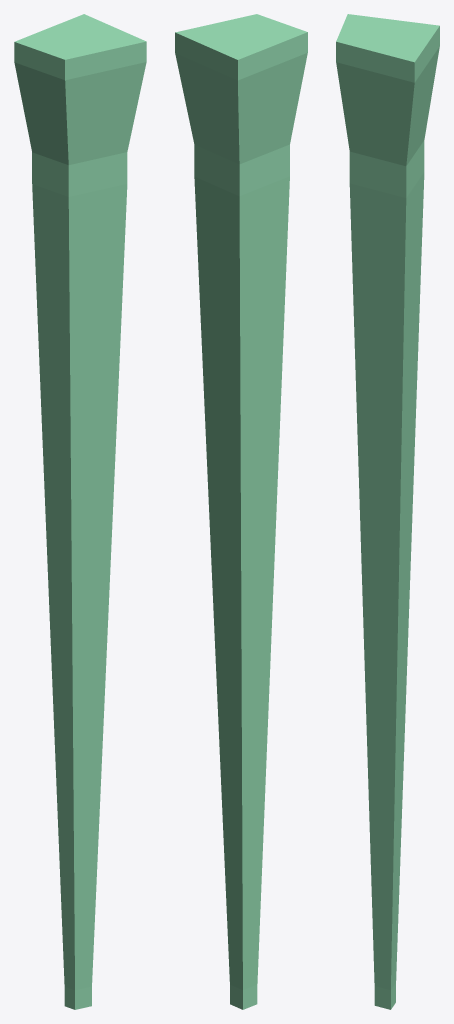
File: Seoul.obj
3 views of the same model, side by side, from view 1: azimuth 30°, elevation 25°; view 2: azimuth 210°, elevation 25°; view 3: azimuth 330°, elevation 25° (orthographic).
Parts seen in each view (by area): view 1: Seoul; view 2: Seoul; view 3: Seoul.
Boxes of the visible parts, bbox=[...] form: Seoul: bbox=[14, 14, 146, 1009]; Seoul: bbox=[175, 14, 307, 1009]; Seoul: bbox=[336, 14, 439, 1009].
Bounding box in the file's own units: 5.57 × 51.71 × 4.25.
